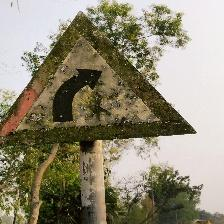Right-turn: (1, 11, 195, 145)
